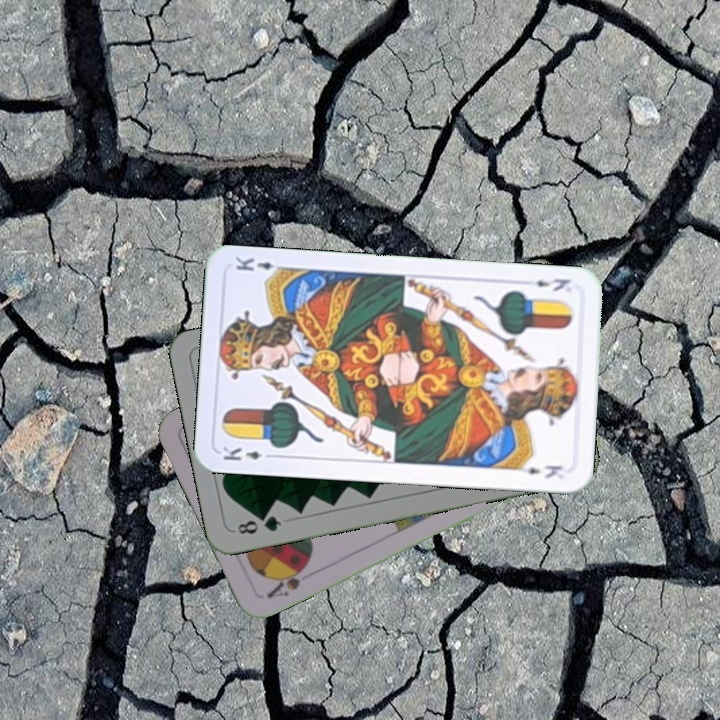EK: (219, 442, 277, 464), (532, 274, 573, 294)
G8: (233, 511, 284, 537)
SA: (263, 560, 310, 601)
